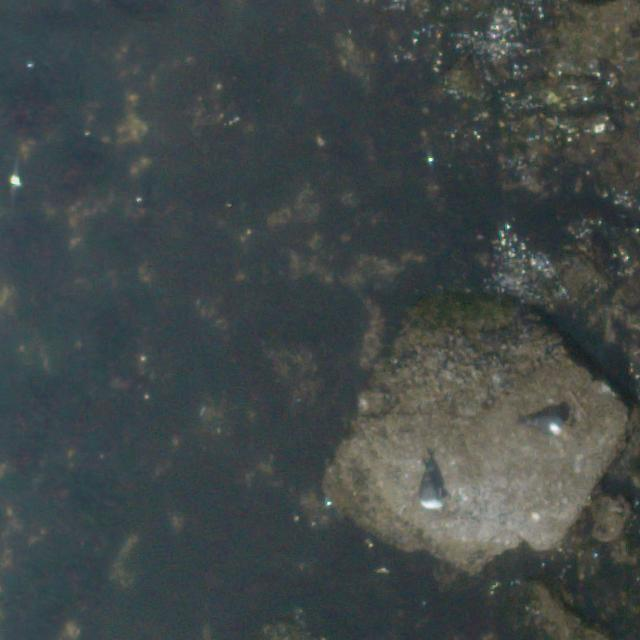umineko: (420, 469, 442, 514), (531, 417, 564, 432)
